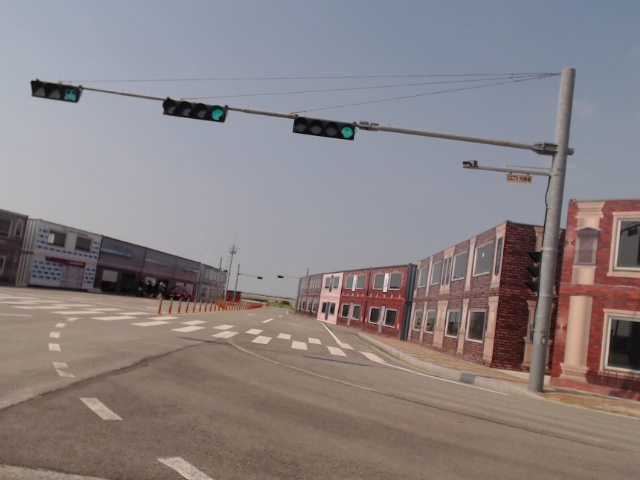straight_green_4: (164, 98, 227, 121), (294, 118, 357, 139)
